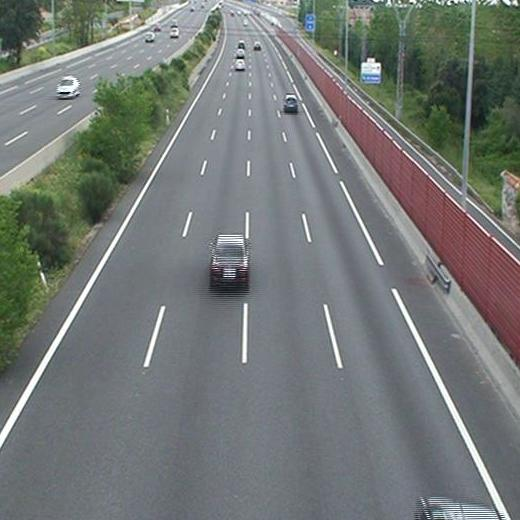car: (210, 236, 248, 282), (284, 95, 298, 112), (235, 59, 245, 69), (236, 48, 245, 58), (237, 40, 244, 48), (253, 42, 260, 49)
